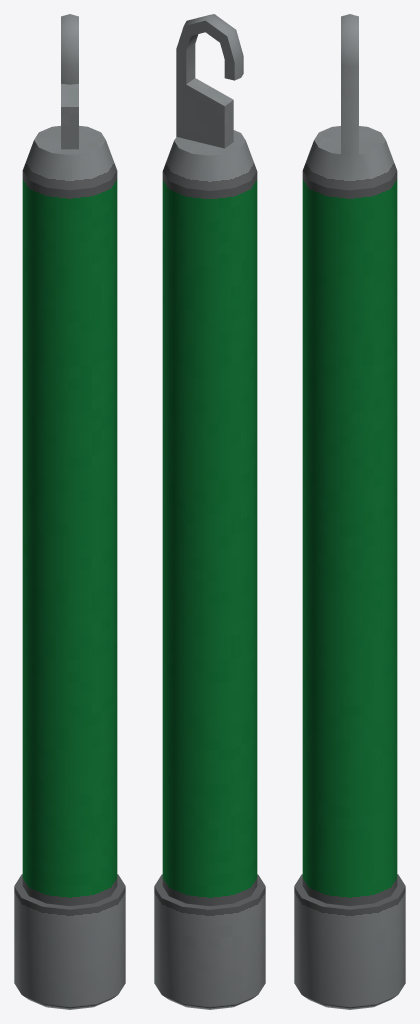
The model's file is chemlight.obj.
3 renders of one model, left to right at view 1: azimuth 90°, elevation 25°; view 2: azimuth 150°, elevation 25°; view 3: azimuth 270°, elevation 25°, orthographic.
Visible parts, largest first — view 1: chemligh; view 2: chemligh; view 3: chemligh.
Part boxes in pixels (box(x1,y1,x2,y2)): chemligh: box(14, 14, 125, 1009); chemligh: box(154, 14, 265, 1009); chemligh: box(294, 14, 405, 1009).
Bounding box in the file's own units: 0.0656 × 0.6328 × 0.0656.
